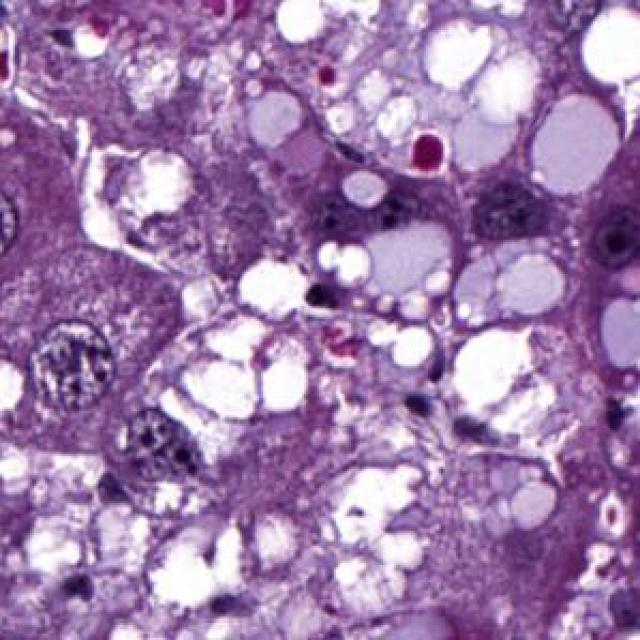ballooning: (306, 7, 546, 188)
